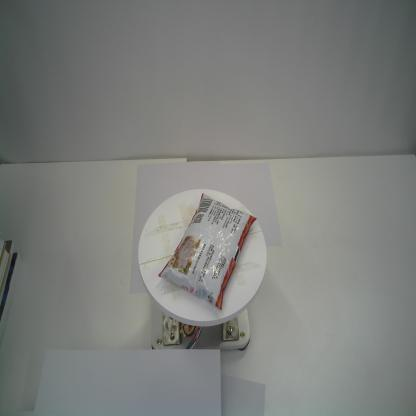Seasoner: (158, 192, 257, 310)
